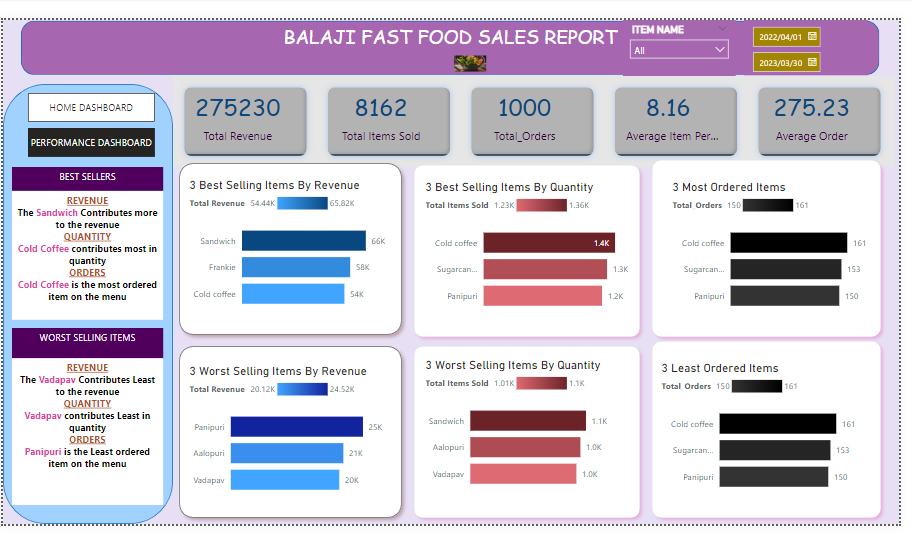

The page's visual inventory and layout, read from the dashboard file:
{"tool":"powerbi","page":{"name":"PERFORMANCE DASHBOARD","canvas":[1280,720],"ordinal":1},"visuals":[{"type":"cardVisual","fields":{"Data":["BalajiFastFoodSales.Total Revenue","BalajiFastFoodSales.Total Items Sold","BalajiFastFoodSales.Total_Orders","BalajiFastFoodSales.Average Item Per Order","BalajiFastFoodSales.Average Order"]},"box":[242.9,80,1031.4,130],"z":0},{"type":"shape","box":[26.2,0,1226.3,78.5],"z":1000},{"type":"textbox","box":[26.2,0,1226.3,56.4],"z":2000},{"type":"image","box":[494.1,45.4,345.5,33],"z":3000},{"type":"shape","box":[0,91.4,242.9,628.6],"z":4000},{"type":"shape","box":[242.9,195.7,335.7,262.9],"z":5000},{"type":"shape","box":[578.6,198.6,340,262.9],"z":6000},{"type":"textbox","box":[12.9,210,215.7,34.3],"z":7000},{"type":"textbox","box":[12.9,244.3,215.7,184.3],"z":8000},{"type":"textbox","box":[12.9,482.9,215.7,210],"z":9000},{"type":"textbox","box":[12.9,440,215.7,42.9],"z":10000},{"type":"slicer","fields":{"Values":["BalajiFastFoodSales.item_name"]},"box":[885.7,0,161.4,80],"z":11000},{"type":"slicer","fields":{"Values":["BalajiFastFoodSales.date"]},"box":[1058.6,0,177.1,78.6],"z":12000},{"type":"shape","box":[918.6,191.4,344.3,270],"z":13000},{"type":"shape","box":[242.9,457.1,335.7,262.9],"z":14000},{"type":"shape","box":[578.6,457.1,340,262.9],"z":15000},{"type":"shape","box":[918.6,450,344.3,270],"z":16000},{"type":"barChart","title":"3 Best Selling Items By Revenue","fields":{"Y":["BalajiFastFoodSales.Total Revenue"],"Category":["BalajiFastFoodSales.item_name"]},"box":[261.4,225.7,300,201.4],"z":16001},{"type":"barChart","title":"3 Worst Selling Items By Revenue","fields":{"Y":["BalajiFastFoodSales.Total Revenue"],"Category":["BalajiFastFoodSales.item_name"]},"box":[261.4,491.4,300,201.4],"z":16002},{"type":"barChart","title":"3 Best Selling Items By Quantity","fields":{"Category":["BalajiFastFoodSales.item_name"],"Y":["BalajiFastFoodSales.Total Items Sold"]},"box":[598.6,228.6,300,201.4],"z":16003},{"type":"barChart","title":"3 Worst Selling Items By Quantity","fields":{"Category":["BalajiFastFoodSales.item_name"],"Y":["BalajiFastFoodSales.Total Items Sold"]},"box":[598.6,482.9,300,201.4],"z":16004},{"type":"barChart","title":"3 Most Ordered Items","fields":{"Category":["BalajiFastFoodSales.item_name"],"Y":["BalajiFastFoodSales.Total_Orders"]},"box":[951.4,228.6,300,201.4],"z":16005},{"type":"barChart","title":"3 Least Ordered Items ","fields":{"Category":["BalajiFastFoodSales.item_name"],"Y":["BalajiFastFoodSales.Total_Orders"]},"box":[935.7,487.1,300,201.4],"z":16006},{"type":"pageNavigator","box":[35.7,104.3,181.4,41.4],"z":16007},{"type":"pageNavigator","box":[35.7,154.3,181.4,41.4],"z":16008}]}

Visuals, with their boxes on the page's 1280x720 design canvas (x1, y1, x2, y2). These are canvas units, not pixel positions in the 912x542 screenshot, which may show the page scaled, cropped or inside an application window:
cardVisual - BalajiFastFoodSales.Total Revenue x BalajiFastFoodSales.Total Items Sold: 243/80/1274/210
shape: 26/0/1252/78
textbox: 26/0/1252/56
image: 494/45/840/78
shape: 0/91/243/720
shape: 243/196/579/459
shape: 579/199/919/462
textbox: 13/210/229/244
textbox: 13/244/229/429
textbox: 13/483/229/693
textbox: 13/440/229/483
slicer - BalajiFastFoodSales.item_name: 886/0/1047/80
slicer - BalajiFastFoodSales.date: 1059/0/1236/79
shape: 919/191/1263/461
shape: 243/457/579/720
shape: 579/457/919/720
shape: 919/450/1263/720
"3 Best Selling Items By Revenue" barChart: 261/226/561/427
"3 Worst Selling Items By Revenue" barChart: 261/491/561/693
"3 Best Selling Items By Quantity" barChart: 599/229/899/430
"3 Worst Selling Items By Quantity" barChart: 599/483/899/684
"3 Most Ordered Items" barChart: 951/229/1251/430
"3 Least Ordered Items " barChart: 936/487/1236/688
pageNavigator: 36/104/217/146
pageNavigator: 36/154/217/196
